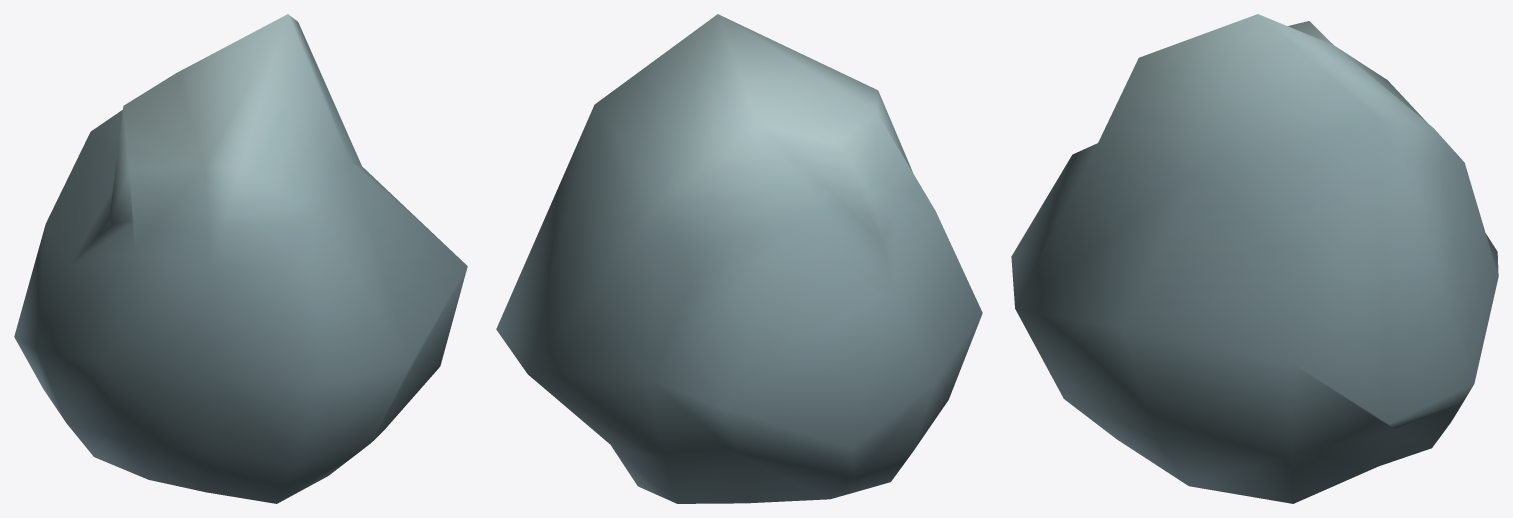
File: grey_rock_root.fbx
3 renders of one model, left to right at view 1: azimuth 30°, elevation 25°; view 2: azimuth 150°, elevation 25°; view 3: azimuth 270°, elevation 25°, orthographic. The views are drawn at different scales.
Visible parts, largest first — view 1: rock2_sh_16, rock2_sh_15, rock2_sh_6, rock2_sh_34, rock2_sh_38, rock2_sh_33, rock2_sh_25, rock2_sh_13, rock2_sh_24, rock2_sh_31, rock2_sh_26, rock2_sh_22 (+8 smaller); view 2: rock2_sh_26, rock2_sh_8, rock2_sh_18, rock2_sh_1, rock2_sh_34, rock2_sh_9, rock2_sh_25, rock2_sh_14, rock2_sh_7, rock2_sh_28, rock2_sh_17, rock2_sh_35 (+12 smaller); view 3: rock2_sh_31, rock2_sh_37, rock2_sh_19, rock2_sh_6, rock2_sh_23, rock2_sh_4, rock2_sh_12, rock2_sh_21, rock2_sh_28, rock2_sh_10, rock2_sh_38, rock2_sh_29 (+12 smaller).
Boxes of the visible parts, <box> form: rock2_sh_16: <box>193,241,366,437</box>; rock2_sh_15: <box>160,379,355,503</box>; rock2_sh_6: <box>333,254,455,453</box>; rock2_sh_34: <box>90,117,213,282</box>; rock2_sh_38: <box>206,139,367,266</box>; rock2_sh_33: <box>132,228,251,388</box>; rock2_sh_25: <box>23,252,158,399</box>; rock2_sh_13: <box>53,379,184,487</box>; rock2_sh_24: <box>78,262,153,377</box>; rock2_sh_31: <box>367,181,467,334</box>; rock2_sh_26: <box>25,139,109,297</box>; rock2_sh_22: <box>230,14,290,143</box>; rock2_sh_26: <box>753,226,896,418</box>; rock2_sh_8: <box>625,224,766,411</box>; rock2_sh_18: <box>534,273,696,427</box>; rock2_sh_1: <box>720,398,906,503</box>; rock2_sh_34: <box>817,100,946,272</box>; rock2_sh_9: <box>684,84,797,244</box>; rock2_sh_25: <box>859,263,975,437</box>; rock2_sh_14: <box>613,80,688,235</box>; rock2_sh_7: <box>687,46,817,159</box>; rock2_sh_28: <box>525,179,621,304</box>; rock2_sh_17: <box>662,407,756,503</box>; rock2_sh_35: <box>533,378,682,503</box>; rock2_sh_31: <box>1099,219,1237,401</box>; rock2_sh_37: <box>1196,283,1401,398</box>; rock2_sh_19: <box>1181,17,1332,171</box>; rock2_sh_6: <box>1013,214,1136,407</box>; rock2_sh_23: <box>1284,70,1414,247</box>; rock2_sh_4: <box>1226,158,1370,301</box>; rock2_sh_12: <box>1189,389,1338,503</box>; rock2_sh_21: <box>1108,112,1264,236</box>; rock2_sh_28: <box>1369,159,1450,347</box>; rock2_sh_10: <box>1075,394,1266,499</box>; rock2_sh_38: <box>1078,50,1181,221</box>; rock2_sh_29: <box>1337,345,1473,448</box>.
Size of the model in its own units: 77.9 by 77.81 by 78.29.
